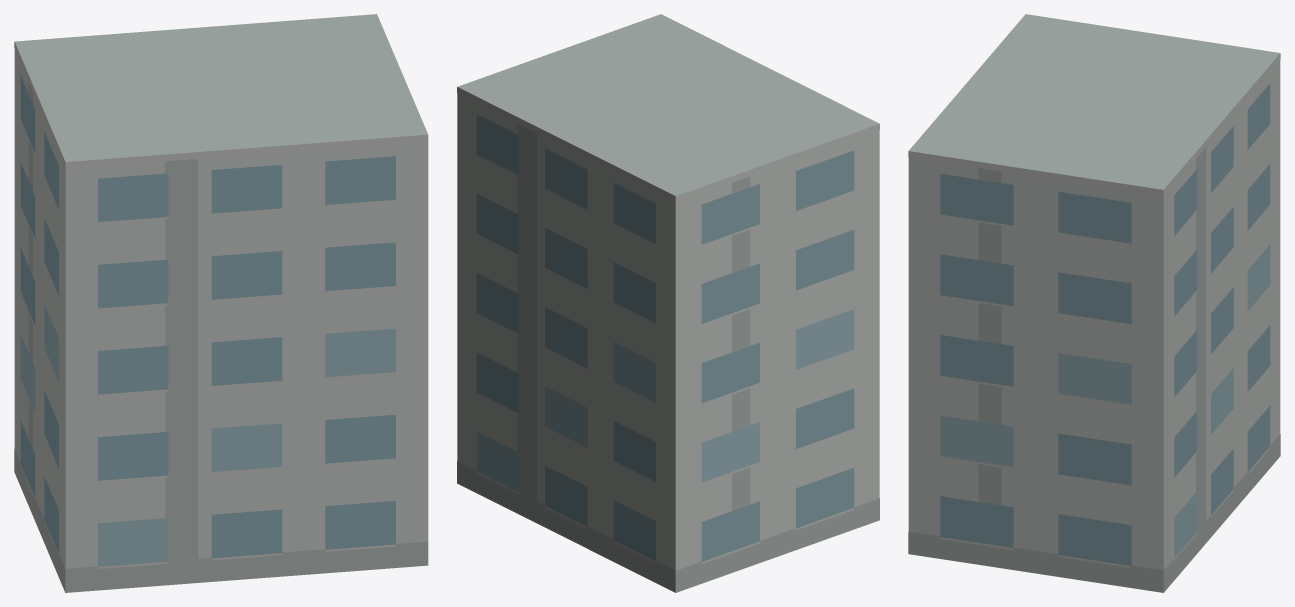
File: residential-0117aed8-9b25-45f6-845b-4f8fe09b54f7.glb
The picture shows the model from 3 angles, left to right: view 1: azimuth 30°, elevation 25°; view 2: azimuth 150°, elevation 25°; view 3: azimuth 270°, elevation 25°; orthographic projection. The views are drawn at different scales.
Parts seen in each view (by area): view 1: residential-0117aed8-9b25-45f6-845b-4f8fe09b54f7.tmp; view 2: residential-0117aed8-9b25-45f6-845b-4f8fe09b54f7.tmp; view 3: residential-0117aed8-9b25-45f6-845b-4f8fe09b54f7.tmp.
Boxes of the visible parts, left/top/right/bottom form: residential-0117aed8-9b25-45f6-845b-4f8fe09b54f7.tmp: left=14, top=14, right=428, bottom=592; residential-0117aed8-9b25-45f6-845b-4f8fe09b54f7.tmp: left=457, top=14, right=879, bottom=592; residential-0117aed8-9b25-45f6-845b-4f8fe09b54f7.tmp: left=908, top=14, right=1280, bottom=592.
Size of the model in its own units: 14.28 by 15.25 by 12.77.
